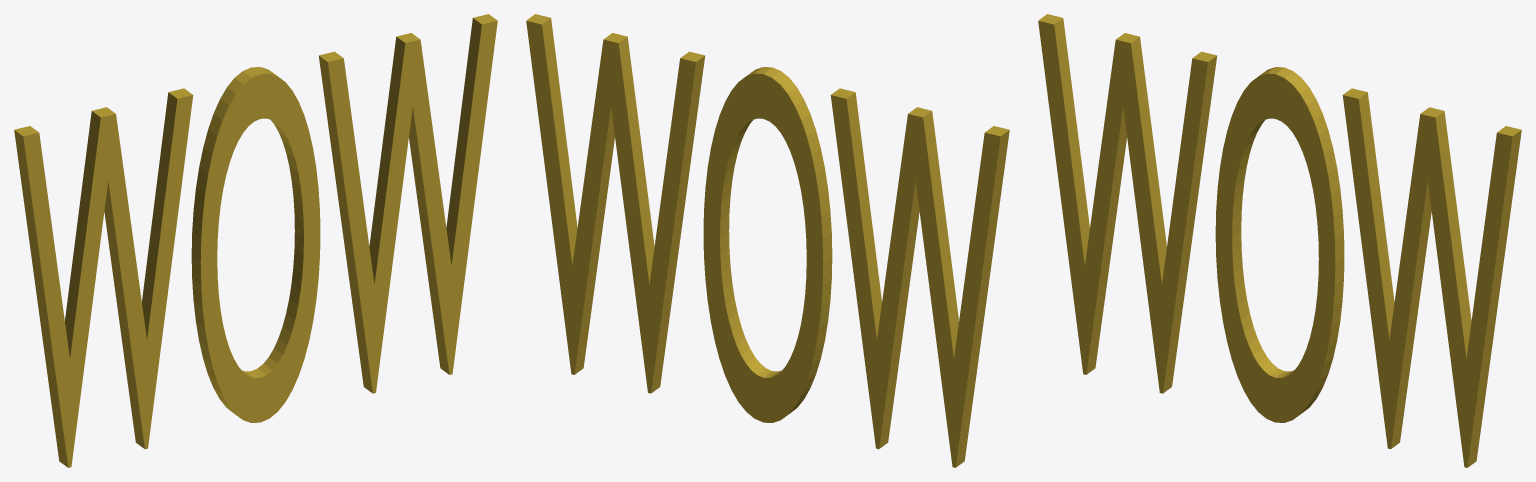
3 views of the same model, side by side, from view 1: azimuth 30°, elevation 25°; view 2: azimuth 150°, elevation 25°; view 3: azimuth 330°, elevation 25° (orthographic).
Visible parts, largest first — view 1: Text; view 2: Text; view 3: Text.
Boxes of the visible parts, x1,y1,x2,y2 form: Text: (14,14,497,467); Text: (526,14,1009,467); Text: (1038,14,1521,467).
Size of the model in its own units: 6 by 4.21 by 0.2.
